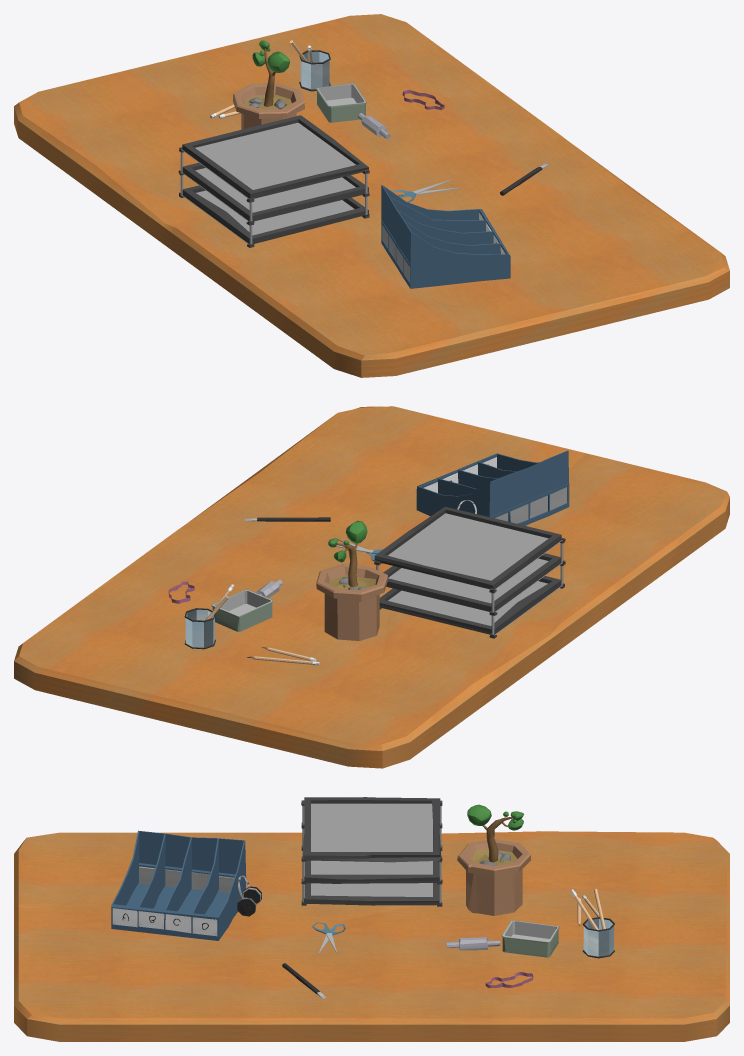
Rendered from Creating_desk.fbx.
3 views of the same model, one above another, from view 1: azimuth 30°, elevation 25°; view 2: azimuth 150°, elevation 25°; view 3: azimuth 270°, elevation 25° (orthographic).
Parts seen in each view (by area): view 1: Desk2, Fileshelf_Black, Fileshelf1, Tree, biandang, polySurface89; view 2: Desk2, Fileshelf_Black, Fileshelf1, Tree, biandang, polySurface89; view 3: Desk2, Fileshelf_Black, Fileshelf1, Tree, biandang, polySurface89, Earphone, Roll, C, A, D, B.
Boxes of the visible parts, x1=… form: Desk2: x1=14, y1=14, x2=729, y2=377; Fileshelf_Black: x1=178, y1=115, x2=369, y2=247; Fileshelf1: x1=381, y1=185, x2=510, y2=288; Tree: x1=233, y1=40, x2=304, y2=129; biandang: x1=316, y1=83, x2=367, y2=122; polySurface89: x1=300, y1=51, x2=329, y2=89; Desk2: x1=14, y1=406, x2=729, y2=768; Fileshelf_Black: x1=374, y1=506, x2=565, y2=638; Fileshelf1: x1=416, y1=450, x2=569, y2=525; Tree: x1=316, y1=520, x2=387, y2=640; biandang: x1=211, y1=589, x2=272, y2=631; polySurface89: x1=185, y1=609, x2=214, y2=647; Desk2: x1=14, y1=831, x2=729, y2=1041; Fileshelf_Black: x1=301, y1=797, x2=442, y2=906; Fileshelf1: x1=111, y1=830, x2=246, y2=940; Tree: x1=457, y1=804, x2=530, y2=915; biandang: x1=501, y1=920, x2=559, y2=957; polySurface89: x1=583, y1=918, x2=613, y2=956; Earphone: x1=237, y1=875, x2=261, y2=916; Roll: x1=446, y1=937, x2=500, y2=950; C: x1=165, y1=914, x2=191, y2=933; A: x1=112, y1=908, x2=137, y2=927; D: x1=192, y1=917, x2=217, y2=936; B: x1=138, y1=911, x2=164, y2=929.
Size of the model in its own units: 180 by 53.7 by 285.
